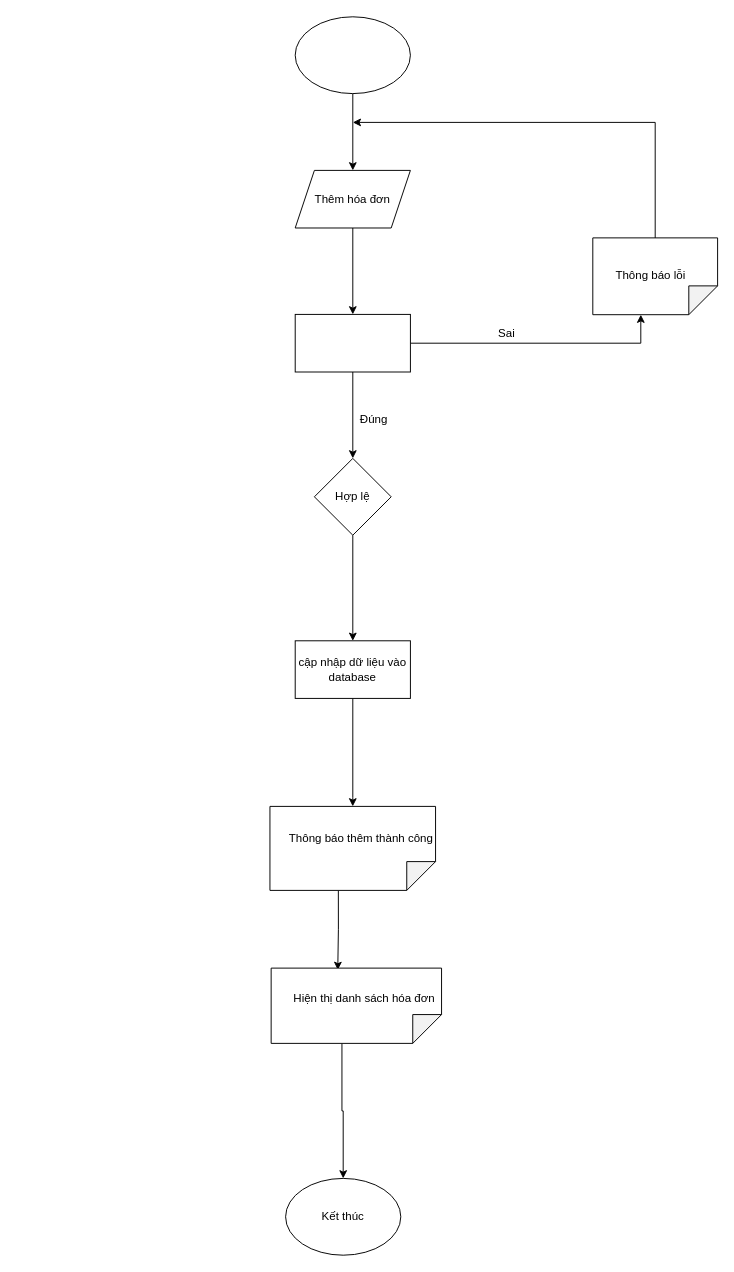
Some shapes in this 734 by 1272 pixel diagram are drawn without their labels. The centre of each missing label's shape, as x and y in pixels:
Bắt đầu: the point at 352,55
Kiểm tra tính hợp lệ: the point at 352,342
